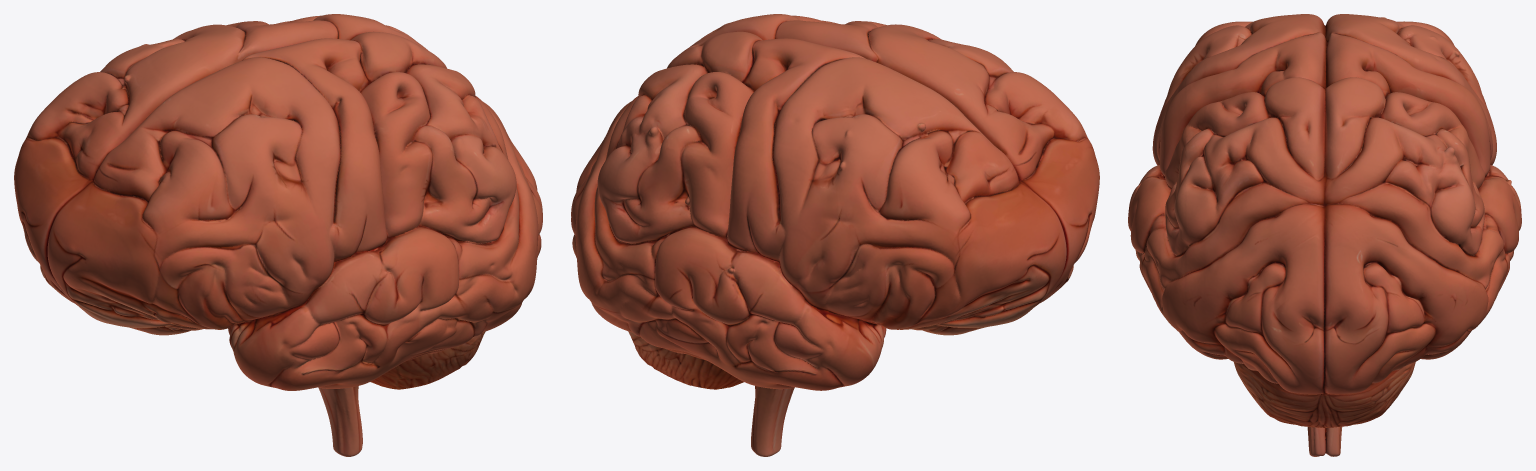
Rendered from brain.glb.
3 renders of one model, left to right at view 1: azimuth 30°, elevation 25°; view 2: azimuth 150°, elevation 25°; view 3: azimuth 270°, elevation 25°, orthographic. The views are drawn at different scales.
Parts seen in each view (by area): view 1: tripo_node_a84bedab-5c4d-49b1-aed9-82d39c002970; view 2: tripo_node_a84bedab-5c4d-49b1-aed9-82d39c002970; view 3: tripo_node_a84bedab-5c4d-49b1-aed9-82d39c002970.
Boxes of the visible parts, x1,y1,x2,y2 form: tripo_node_a84bedab-5c4d-49b1-aed9-82d39c002970: (14, 14, 542, 456); tripo_node_a84bedab-5c4d-49b1-aed9-82d39c002970: (571, 14, 1099, 456); tripo_node_a84bedab-5c4d-49b1-aed9-82d39c002970: (1128, 14, 1521, 456).
Size of the model in its own units: 1 by 0.8668 by 0.8007.
Materials: 1 (1 with a texture image).
